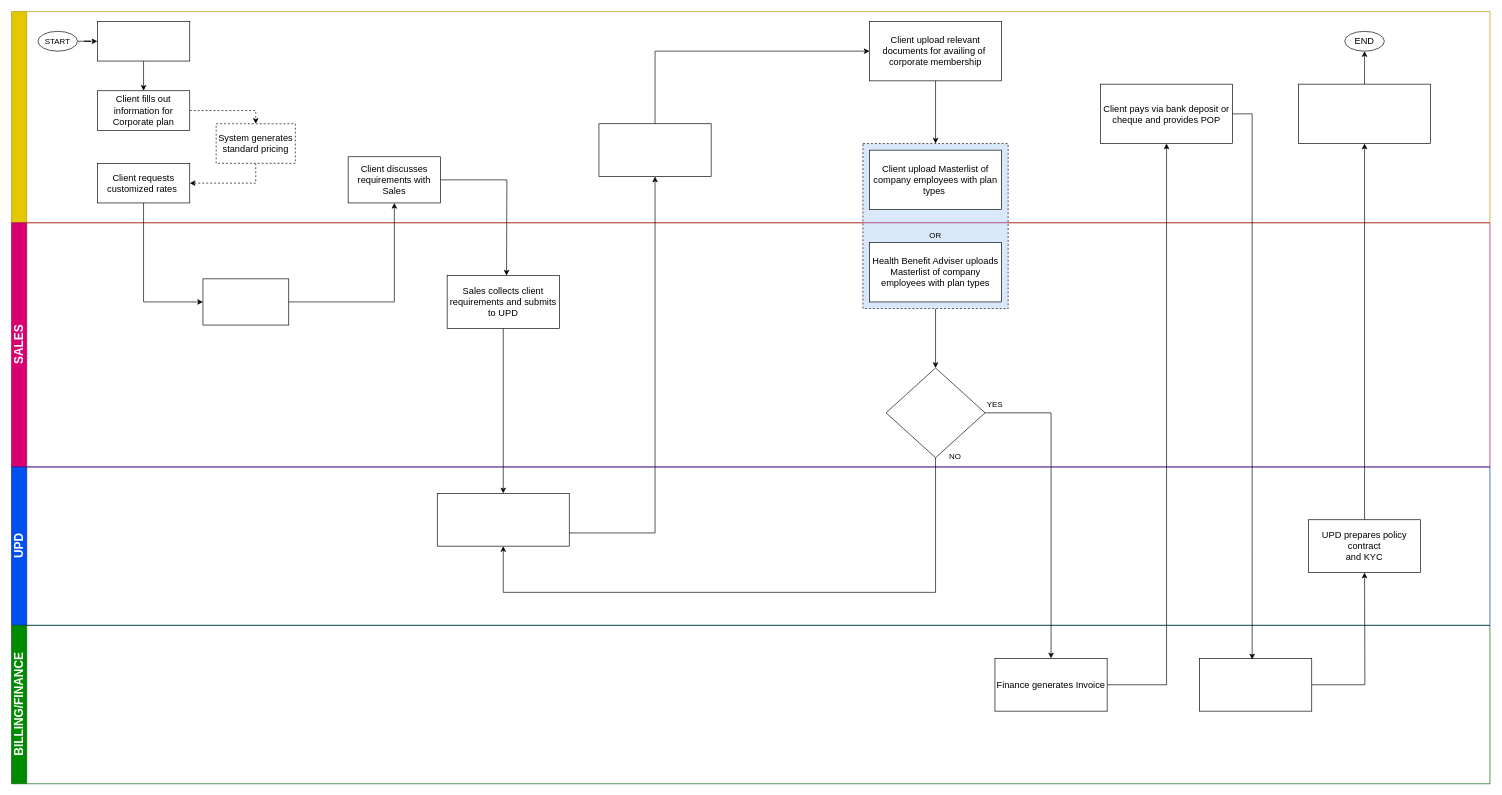
Some shapes in this 1502 by 795 pixel diagram are drawn without their labels. Each missing label, with the box of its shape:
Client creates account in MPI ERP: (97, 21, 190, 61)
Client reviews available Pricing and Plan options: (598, 123, 711, 177)
Client successfully avails Corporate plan: (1298, 83, 1431, 144)
CORPORATE CUSTOMER/CLIENT: (11, 11, 1490, 223)
Finance generates OR: (1199, 658, 1312, 711)
Sales admin approval?: (885, 367, 985, 458)
Sales agent calls client: (202, 278, 289, 325)
UPD reviews requirements and creates customized rates: (437, 493, 569, 546)
